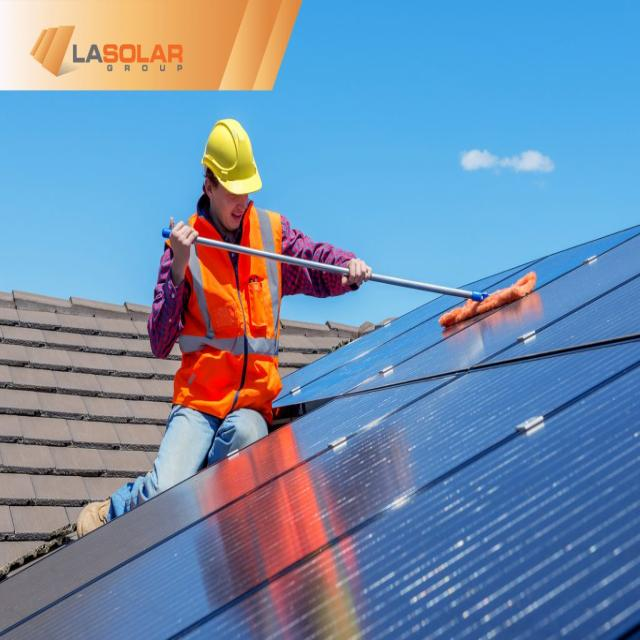clean-solar-panel: (1, 228, 640, 637)
